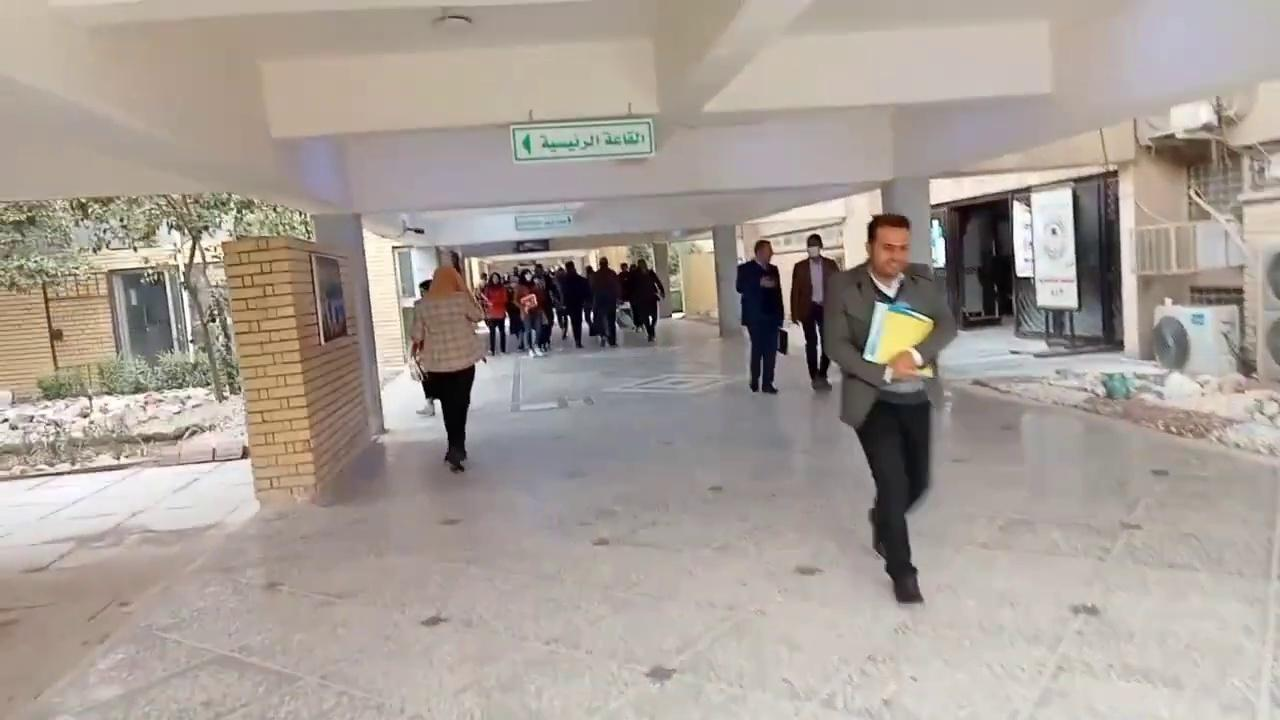person: (821, 213, 957, 603), (409, 265, 488, 472), (789, 233, 841, 391), (735, 239, 784, 393), (409, 278, 435, 416)
tree: (0, 191, 315, 401), (0, 198, 95, 373)
